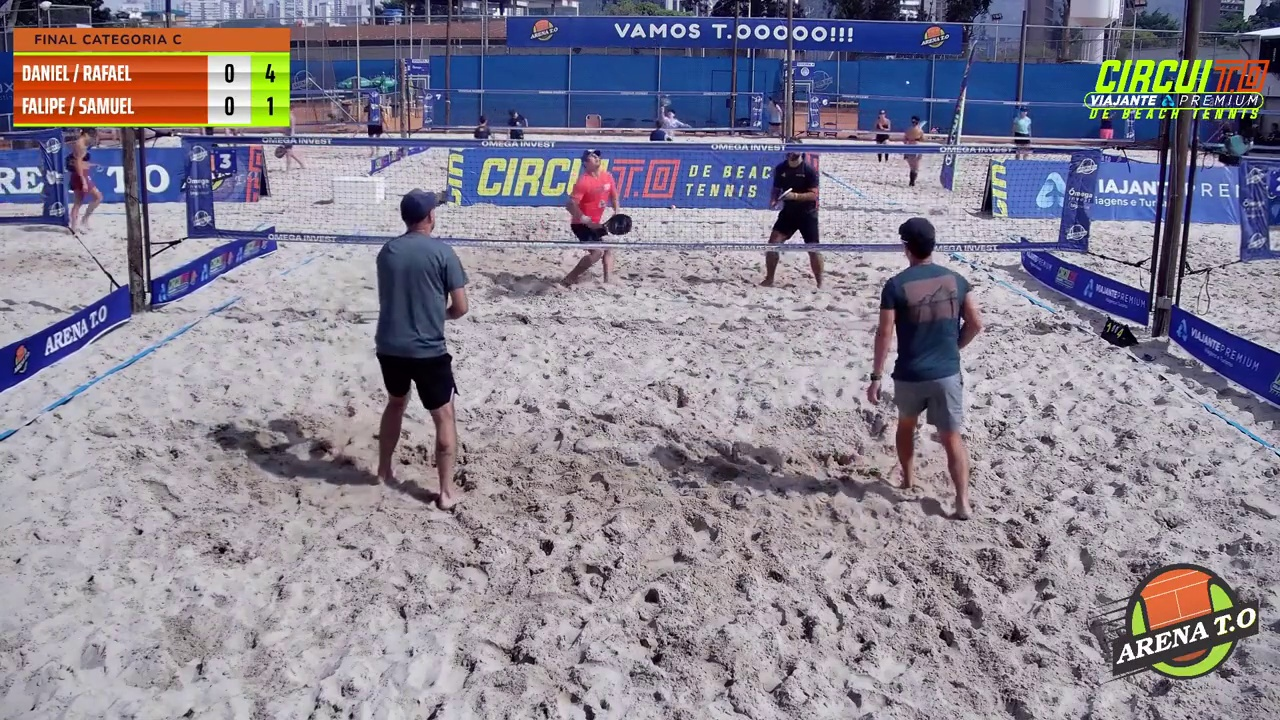court_line: (535, 0, 682, 531), (641, 0, 808, 368), (549, 0, 678, 401)
